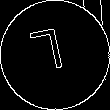L_S: (34, 27, 76, 83)
